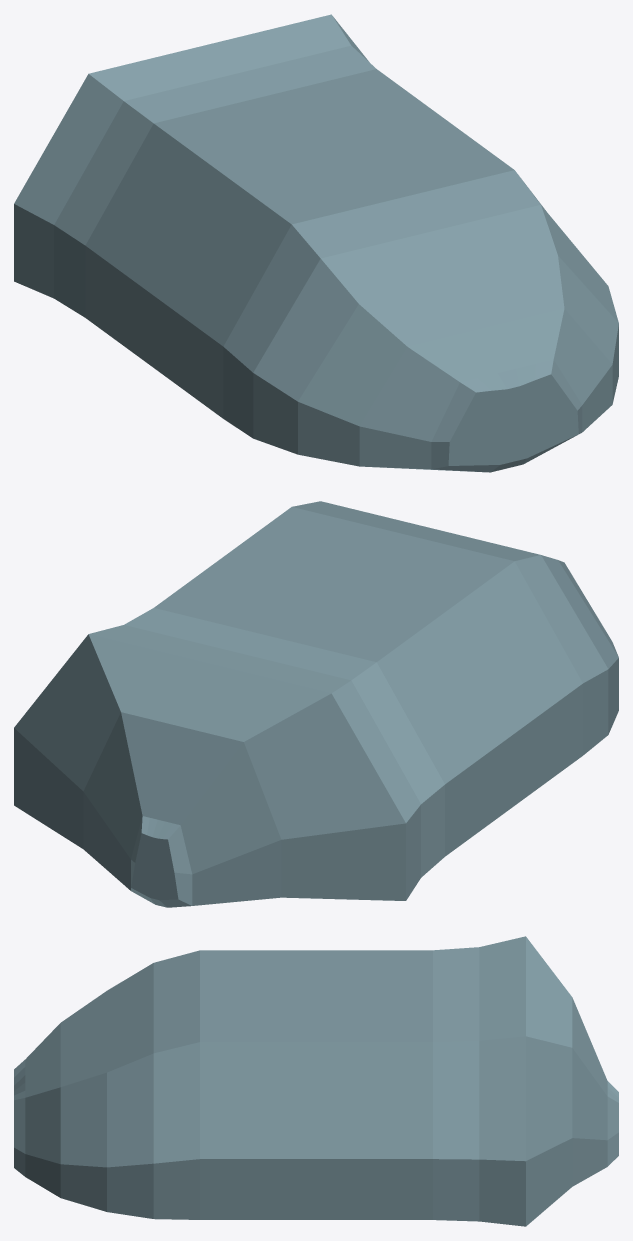
The model's file is ballard_oddball_a.glb.
The picture shows the model from 3 angles, top to bottom: view 1: azimuth 30°, elevation 25°; view 2: azimuth 150°, elevation 25°; view 3: azimuth 270°, elevation 25°; orthographic projection. The views are drawn at different scales.
Parts seen in each view (by area): view 1: ballard_oddball_a; view 2: ballard_oddball_a; view 3: ballard_oddball_a.
Boxes of the visible parts, left/top/right/bottom form: ballard_oddball_a: left=14, top=14, right=618, bottom=472; ballard_oddball_a: left=14, top=501, right=618, bottom=907; ballard_oddball_a: left=14, top=936, right=618, bottom=1226.
Bounding box in the file's own units: 4.1 × 2.07 × 6.5.
